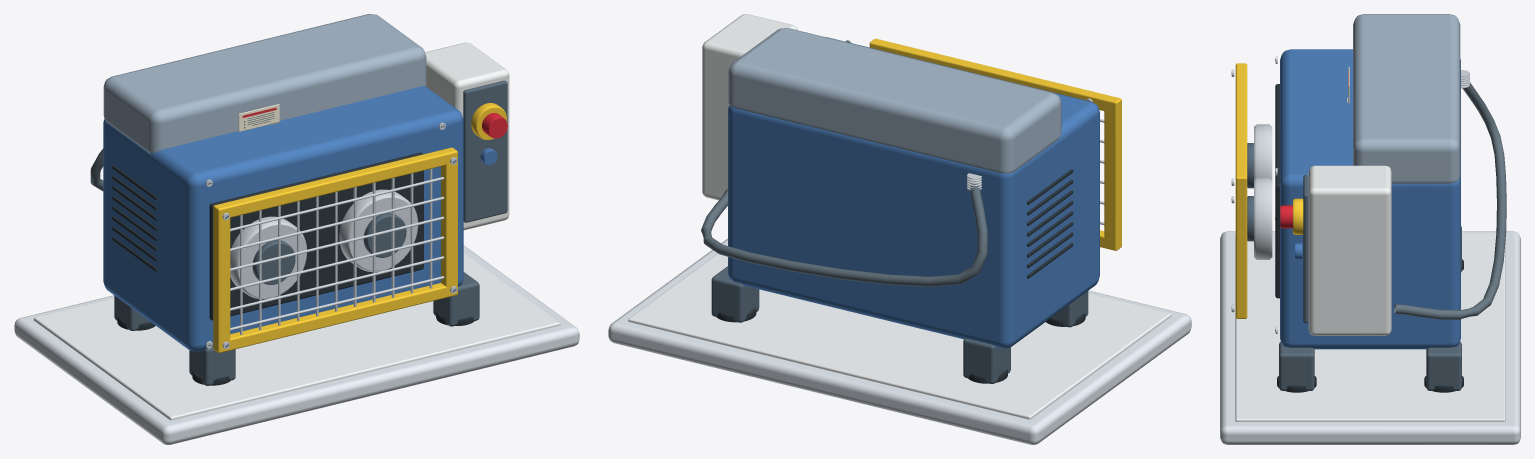
Rendered from machinery-unlocked.glb.
3 views of the same model, side by side, from view 1: azimuth 30°, elevation 25°; view 2: azimuth 150°, elevation 25°; view 3: azimuth 270°, elevation 25° (orthographic). The views are drawn at different scales.
Visible parts, largest first — view 1: machinery-unlocked; view 2: machinery-unlocked; view 3: machinery-unlocked.
Boxes of the visible parts, <box> form: machinery-unlocked: <box>14,14,579,444</box>; machinery-unlocked: <box>608,14,1191,444</box>; machinery-unlocked: <box>1220,14,1520,444</box>.
Bounding box in the file's own units: 0.77 × 0.476 × 0.49.
